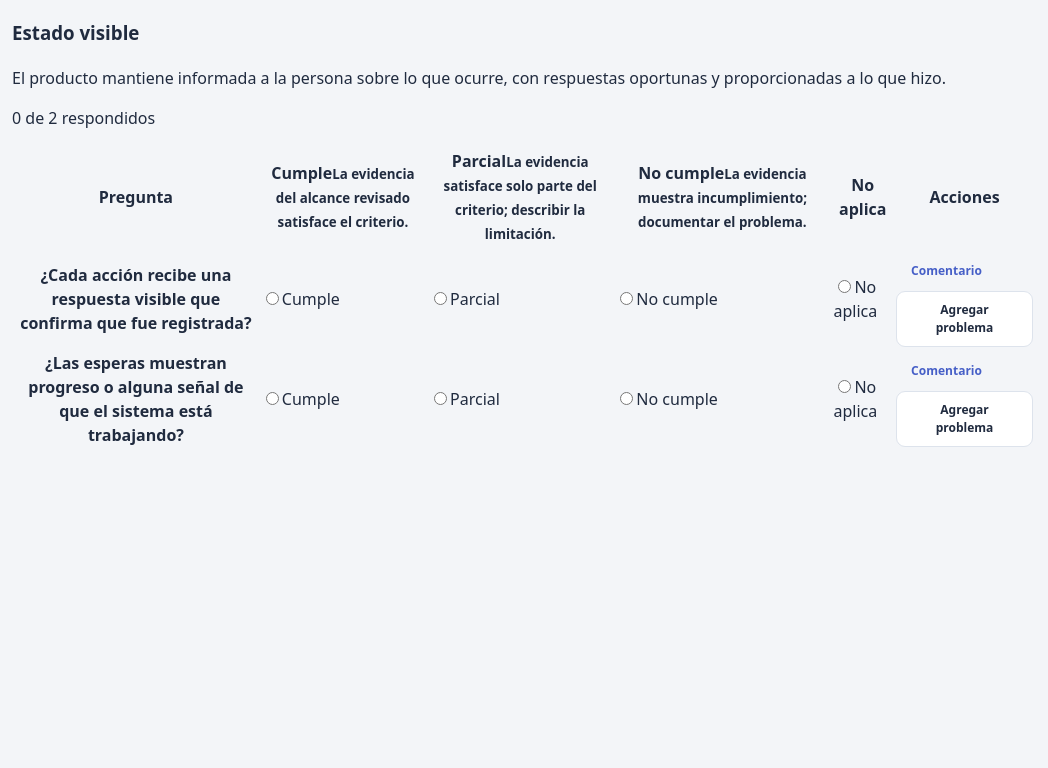
MatrizItem con el formulario de problemas dentro de la fila › Agregar problema abre el formulario en la fila inmediata de la pregunta
What coordinates should you click on to do the following:
click the 1st button "Agregar problema"
I would click on:
 (965, 318)
Its box is [896,290,1033,346].
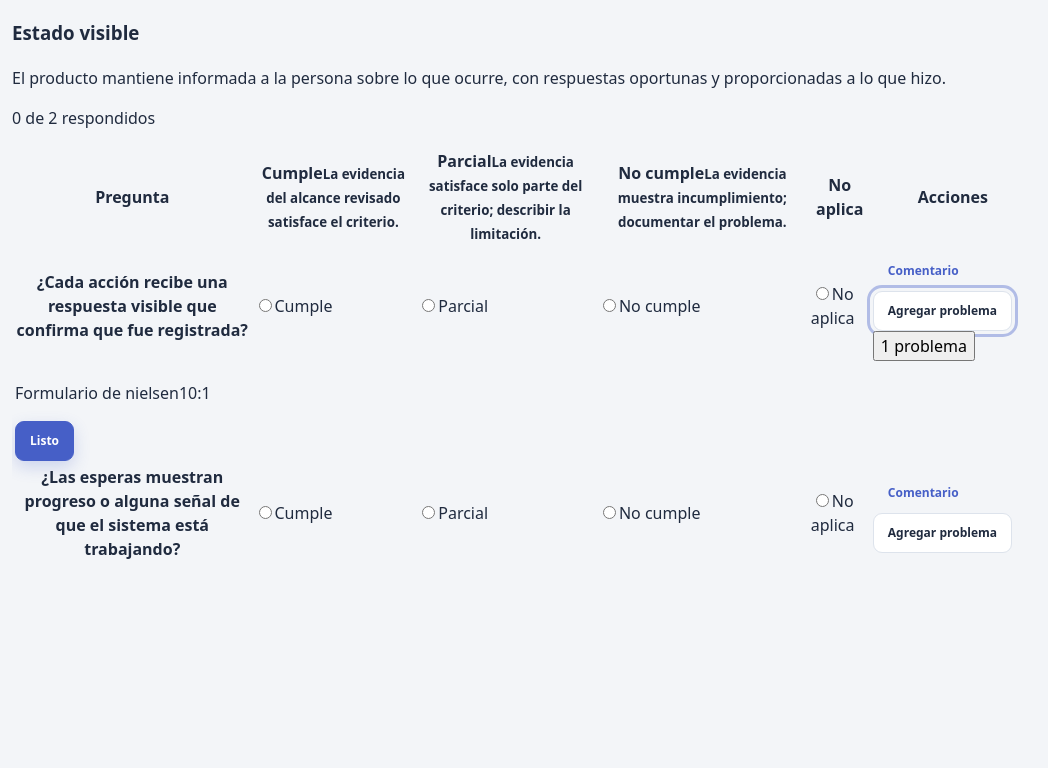
Now the text "Formulario de nielsen10:1" is shown once, box [15,382,211,404]
